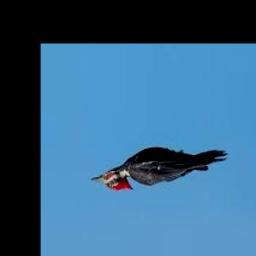Woodpecker: (92, 147, 228, 192)
